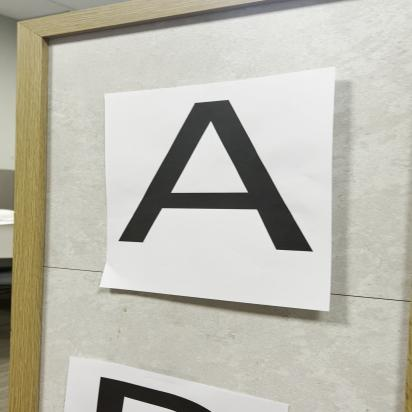seat: (124, 94, 318, 283)
